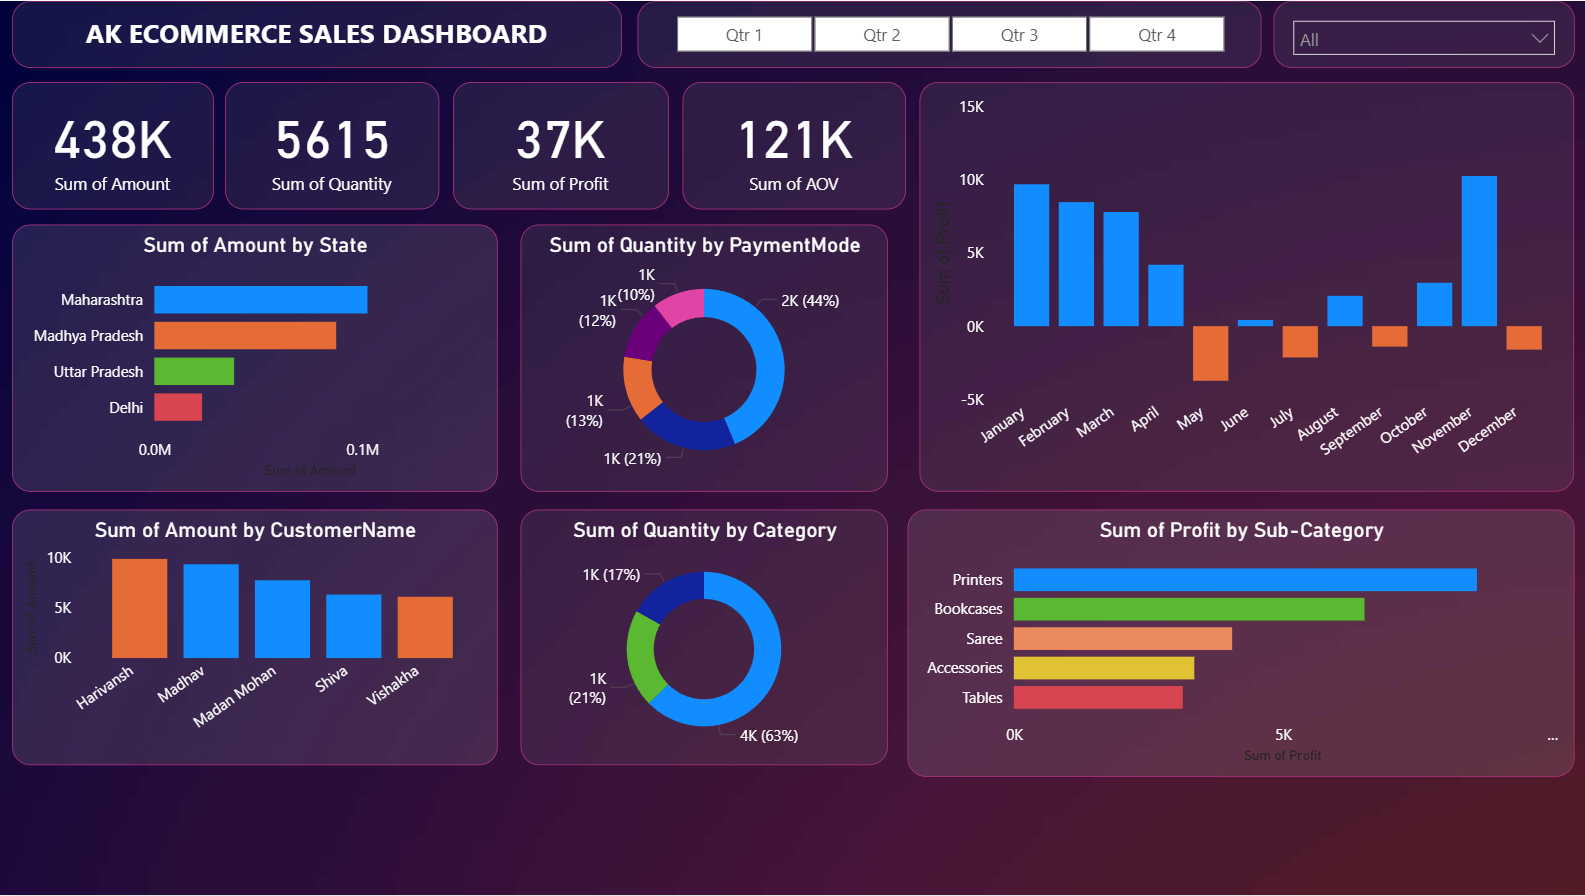

This screenshot's page, from the dashboard's own definition file:
{"tool":"powerbi","page":{"name":"Page 1","canvas":[1280,720],"ordinal":0},"visuals":[{"type":"textbox","box":[10,0,491.2,53.8],"z":0},{"type":"columnChart","fields":{"Category":["Orders.Order Date.Variation.Date Hierarchy.Year","Orders.Order Date.Variation.Date Hierarchy.Quarter","Orders.Order Date.Variation.Date Hierarchy.Month","Orders.Order Date.Variation.Date Hierarchy.Day"],"Y":["Sum(Details.Profit)"]},"box":[741.2,65,527.5,330],"z":1000},{"type":"barChart","fields":{"Category":["Details.Sub-Category"],"Y":["Sum(Details.Profit)"]},"box":[731.2,410,537.5,215],"z":2000},{"type":"donutChart","fields":{"Category":["Details.Category"],"Y":["Sum(Details.Quantity)"]},"box":[418.8,410,296.2,206.2],"z":3000},{"type":"donutChart","fields":{"Y":["Sum(Details.Quantity)"],"Category":["Details.PaymentMode"]},"box":[418.8,180,296.2,215],"z":4000},{"type":"card","fields":{"Values":["Sum(Details.Amount)"]},"box":[10,65,162.5,102.5],"z":5000},{"type":"card","fields":{"Values":["Sum(Details.Quantity)"]},"box":[181.2,65,172.5,102.5],"z":6000},{"type":"card","fields":{"Values":["Sum(Details.Profit)"]},"box":[365,65,173.8,102.5],"z":7000},{"type":"card","fields":{"Values":["Sum(Details.AOV)"]},"box":[550,65,180,102.5],"z":8000},{"type":"barChart","fields":{"Category":["Orders.State"],"Y":["Sum(Details.Amount)"]},"box":[10,180,391.2,215],"z":9000},{"type":"columnChart","fields":{"Category":["Orders.CustomerName"],"Y":["Sum(Details.Amount)"]},"box":[10,410,391,206],"z":10000},{"type":"slicer","fields":{"Values":["Orders.Order Date.Variation.Date Hierarchy.Quarter"]},"box":[513.8,0,502.5,53.8],"z":11000},{"type":"slicer","fields":{"Values":["Orders.State"]},"box":[1026.2,0,242.5,53.8],"z":12000}]}

Visuals, with their boxes in screenshot pixels (x1, y1, x2, y2), scaled from the page's 1280x720 canvas onto the 1585x896 screenshot:
textbox: 12/0/621/67
columnChart - Orders.Order Date.Variation.Date Hierarchy.Year x Orders.Order Date.Variation.Date Hierarchy.Quarter: 918/81/1571/492
barChart - Details.Sub-Category x Sum(Details.Profit): 905/510/1571/778
donutChart - Details.Category x Sum(Details.Quantity): 519/510/885/767
donutChart - Sum(Details.Quantity) x Details.PaymentMode: 519/224/885/492
card - Sum(Details.Amount): 12/81/214/208
card - Sum(Details.Quantity): 224/81/438/208
card - Sum(Details.Profit): 452/81/667/208
card - Sum(Details.AOV): 681/81/904/208
barChart - Orders.State x Sum(Details.Amount): 12/224/497/492
columnChart - Orders.CustomerName x Sum(Details.Amount): 12/510/497/767
slicer - Orders.Order Date.Variation.Date Hierarchy.Quarter: 636/0/1258/67
slicer - Orders.State: 1271/0/1571/67
